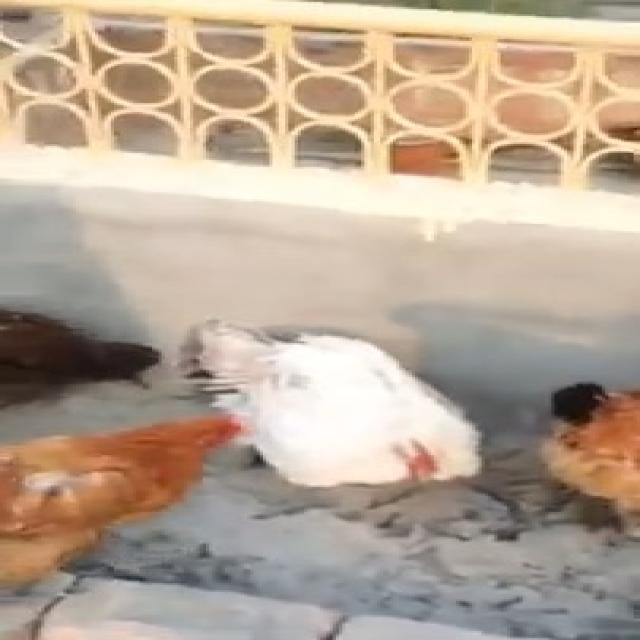stand bath: (184, 300, 507, 498)
